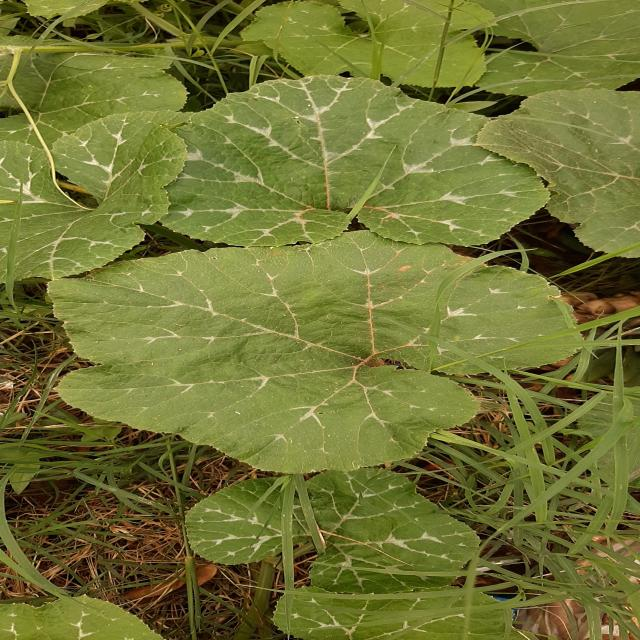pumpkin: (51, 231, 580, 472)
